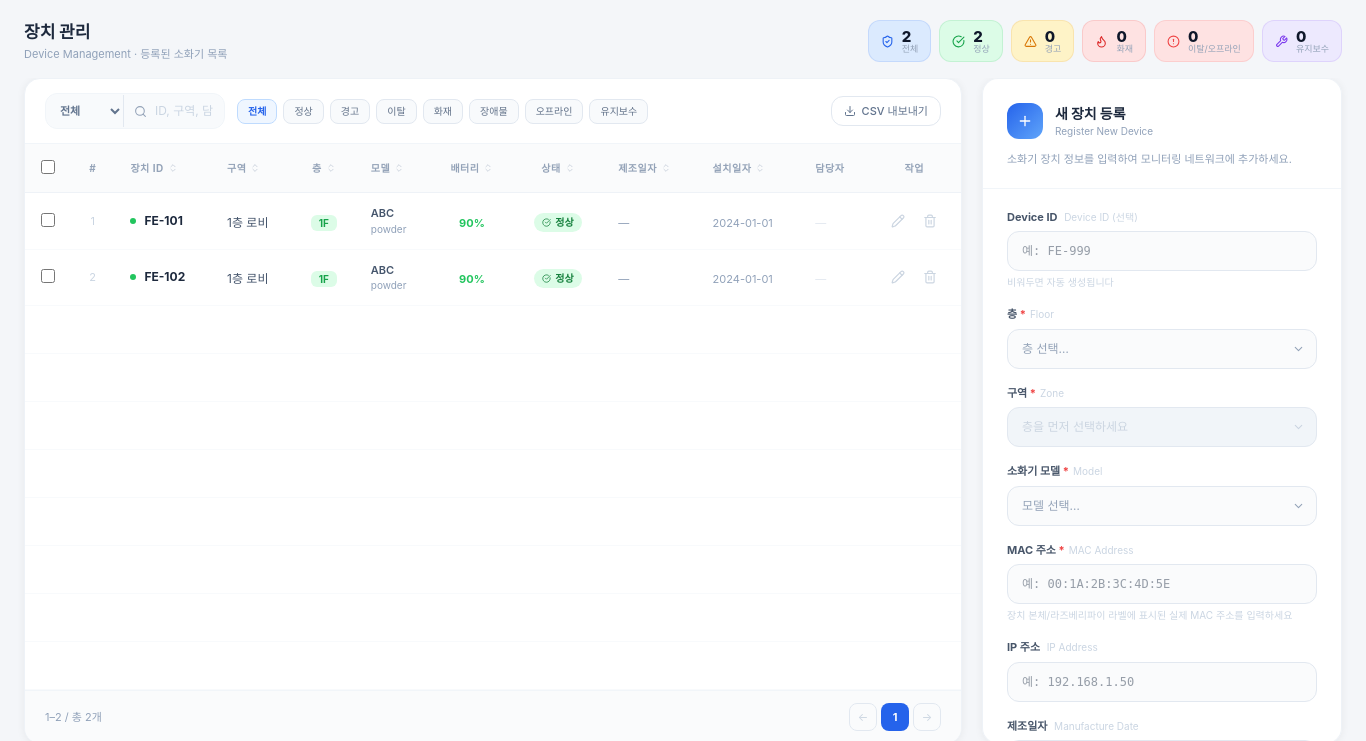
Test: DeviceManagement › selects a device row and enables bulk action buttons
Check: the text "FE-101" is shown, box [144,212,183,230]
Click the checkbox in the row of "FE-101" at (48, 220), box [41,213,55,227]
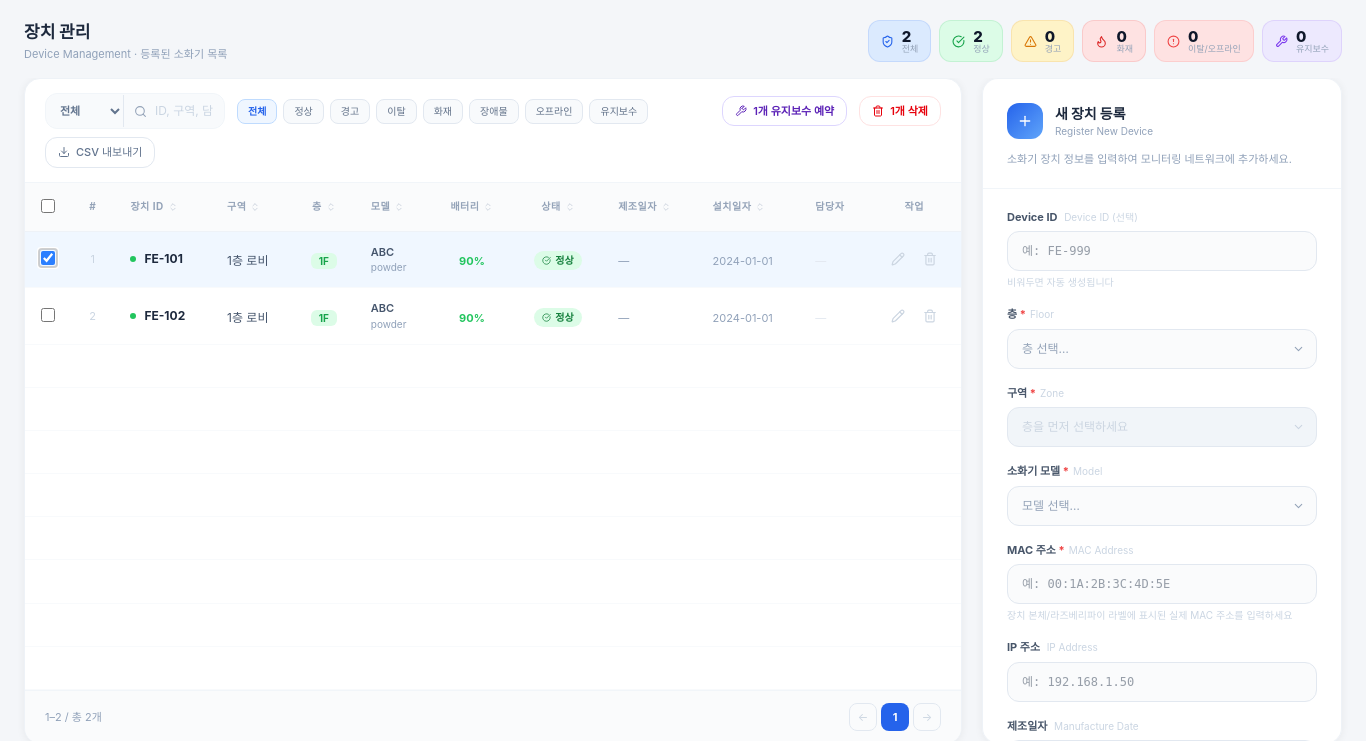
Check: the button "1개 유지보수 예약" is shown, box [722,96,847,126]
Check: the button "1개 삭제" is shown, box [859,96,941,126]
